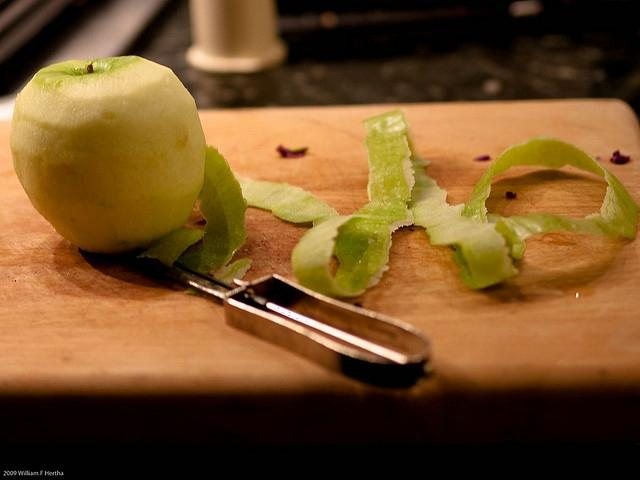apple: (10, 56, 206, 255)
